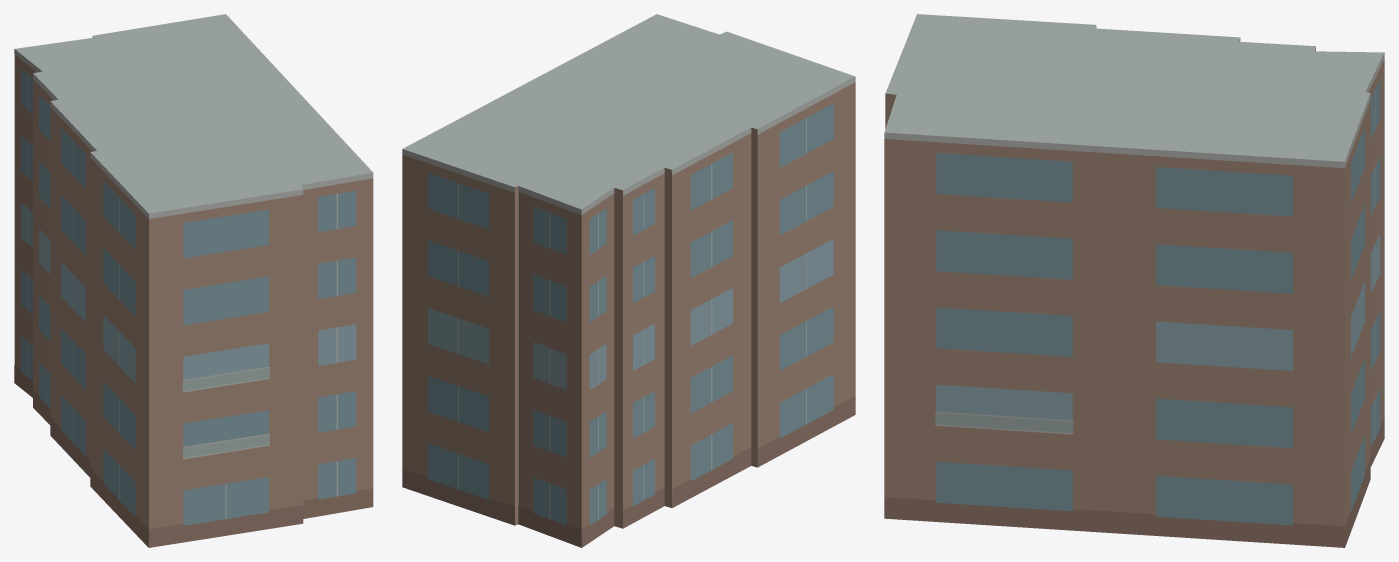
File: survey-upis-33042505.glb
The picture shows the model from 3 angles, left to right: view 1: azimuth 30°, elevation 25°; view 2: azimuth 150°, elevation 25°; view 3: azimuth 270°, elevation 25°; orthographic projection. The views are drawn at different scales.
Parts seen in each view (by area): view 1: survey-upis-33042505.tmp; view 2: survey-upis-33042505.tmp; view 3: survey-upis-33042505.tmp.
Boxes of the visible parts, x1,y1,x2,y2 form: survey-upis-33042505.tmp: (14,14,373,547); survey-upis-33042505.tmp: (402,14,855,547); survey-upis-33042505.tmp: (884,14,1384,547).
Bounding box in the file's own units: 12.17 × 14.8 × 17.39.
